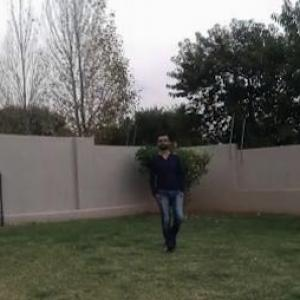follow: (155, 132, 185, 254)
